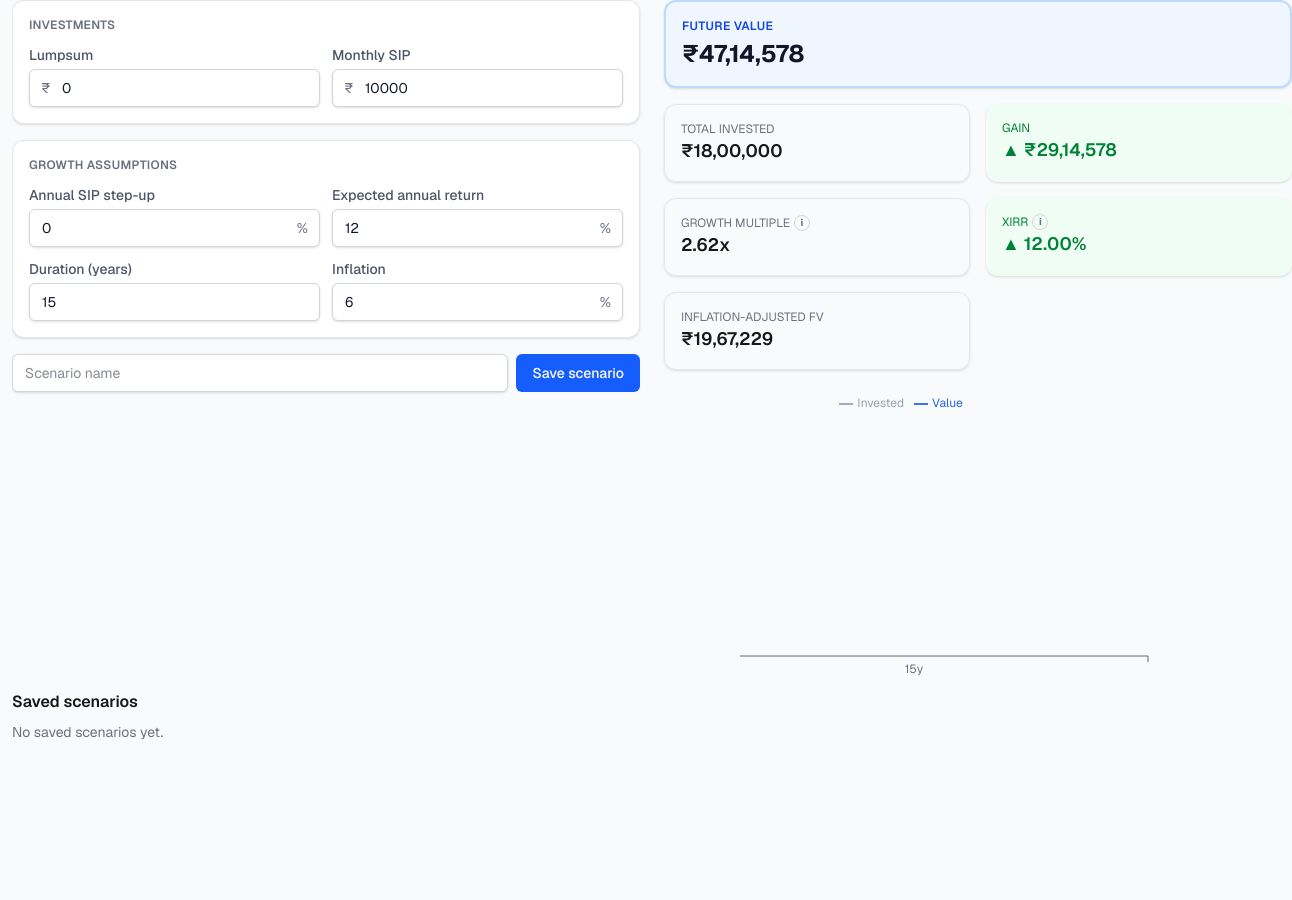
Test: CalculatorTab validation › flags an out-of-range field inline and names it in the summary
The image size is (1292, 900).
Replace the text in the number field labelled "Expected annual return" with "150" at (478,228), box [332, 209, 623, 247]
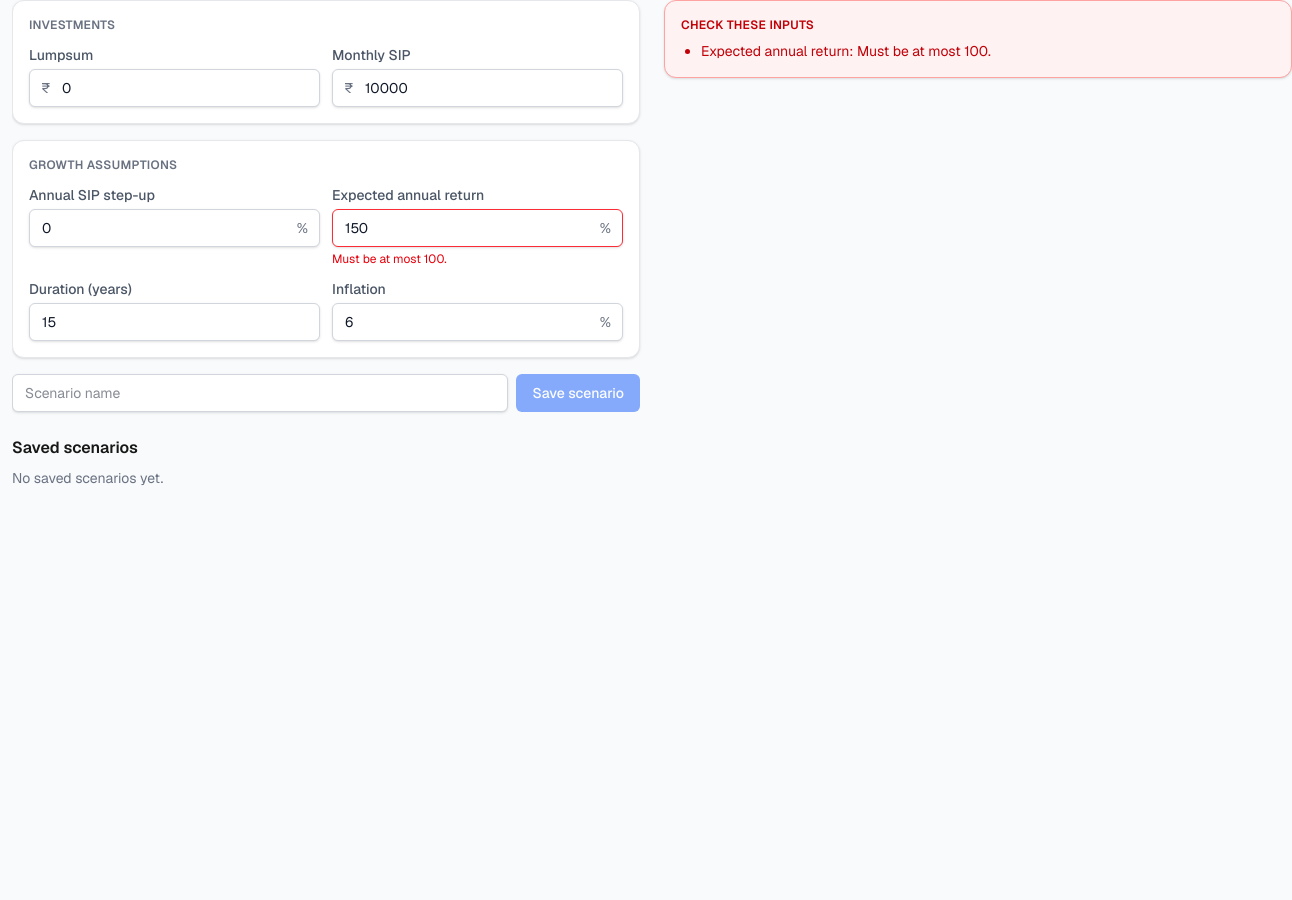
Check: the list item "Expected annual return: Must be at most 100." is shown, box [701, 42, 991, 60]
